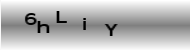6: (23, 12, 36, 25)
L: (54, 10, 68, 24)
Y: (104, 23, 119, 37)
h: (36, 20, 50, 34)
i: (81, 17, 86, 30)
